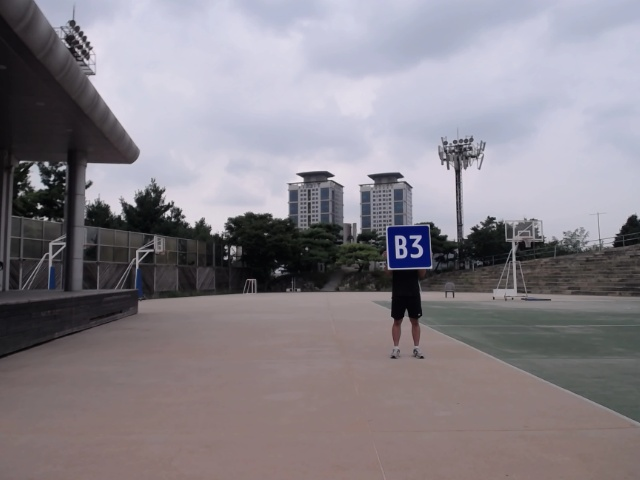delivery_b3: (387, 225, 434, 271)
